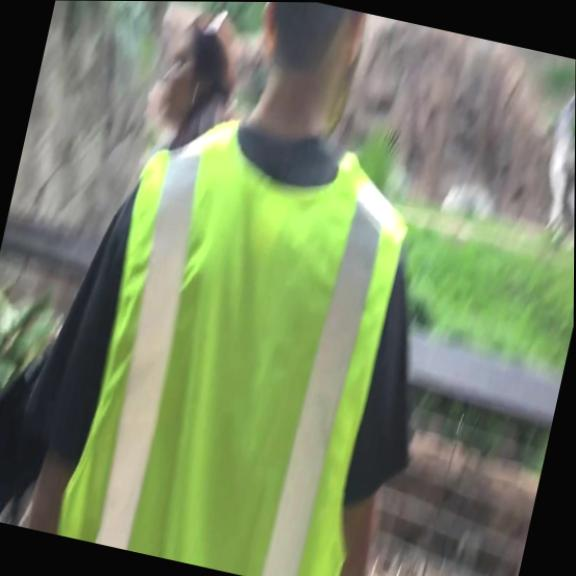safety_vest: (52, 97, 432, 576)
